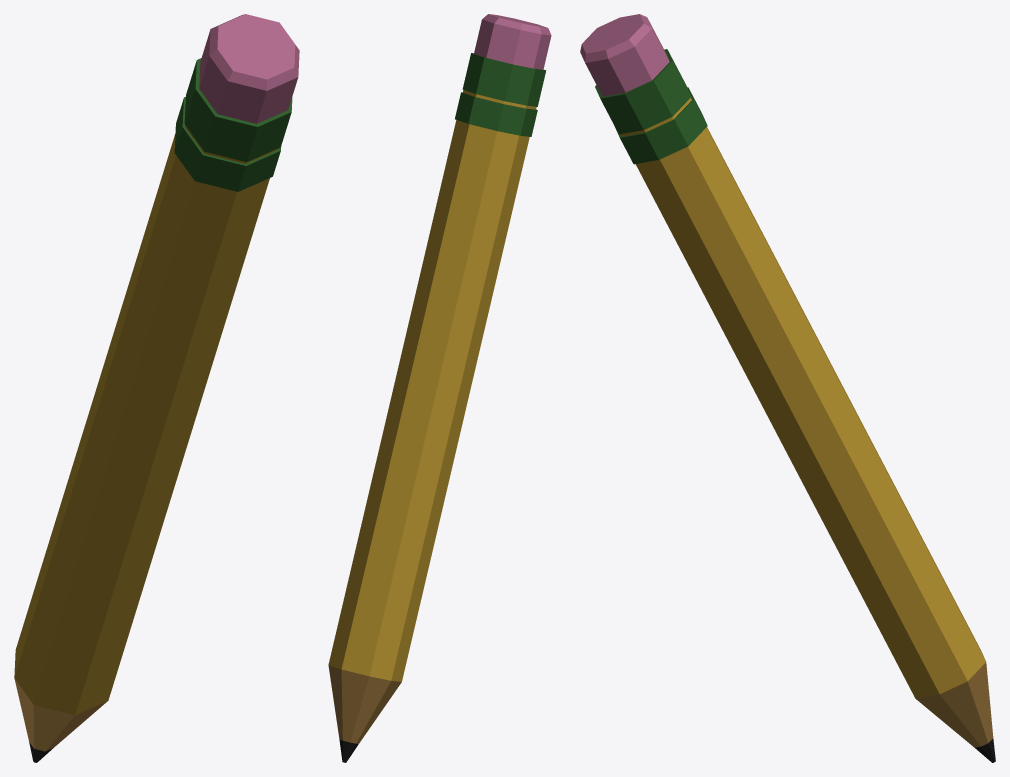
The model's file is Pencil.fbx.
3 renders of one model, left to right at view 1: azimuth 30°, elevation 25°; view 2: azimuth 150°, elevation 25°; view 3: azimuth 270°, elevation 25°, orthographic. The views are drawn at different scales.
Visible parts, largest first — view 1: Cube.005; view 2: Cube.005; view 3: Cube.005.
Part boxes in pixels (x1=…): Cube.005: x1=14, y1=14, x2=299, y2=762; Cube.005: x1=328, y1=14, x2=551, y2=762; Cube.005: x1=580, y1=14, x2=995, y2=762.
Size of the model in its own units: 4.56 by 40.62 by 20.77.
